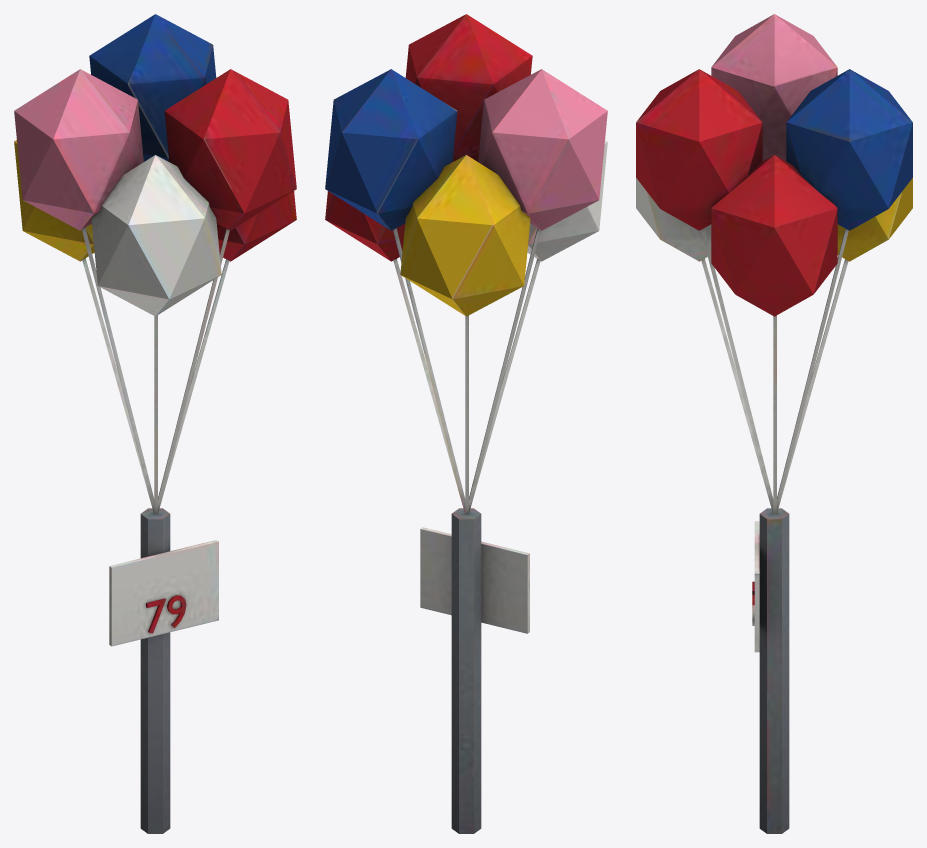
Rendered from globo_cumple.glb.
3 renders of one model, left to right at view 1: azimuth 30°, elevation 25°; view 2: azimuth 150°, elevation 25°; view 3: azimuth 270°, elevation 25°, orthographic.
Parts seen in each view (by area): view 1: globo_cumple; view 2: globo_cumple; view 3: globo_cumple.
Part boxes in pixels (x1,y1,x2,y2): globo_cumple: (14, 14, 296, 833); globo_cumple: (325, 14, 607, 833); globo_cumple: (636, 14, 912, 833).
Bounding box in the file's own units: 1.24 × 3.46 × 1.12.
1 material, 1 textured.
